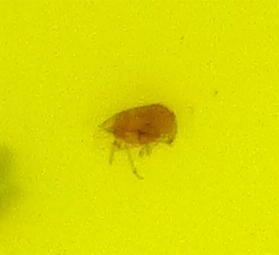Hemiptera: (100, 100, 179, 155)
